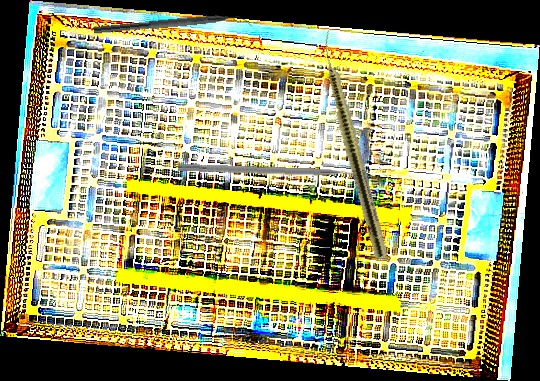Chopper: (93, 9, 253, 45), (177, 163, 365, 188)
Handpiece: (314, 28, 391, 259)
